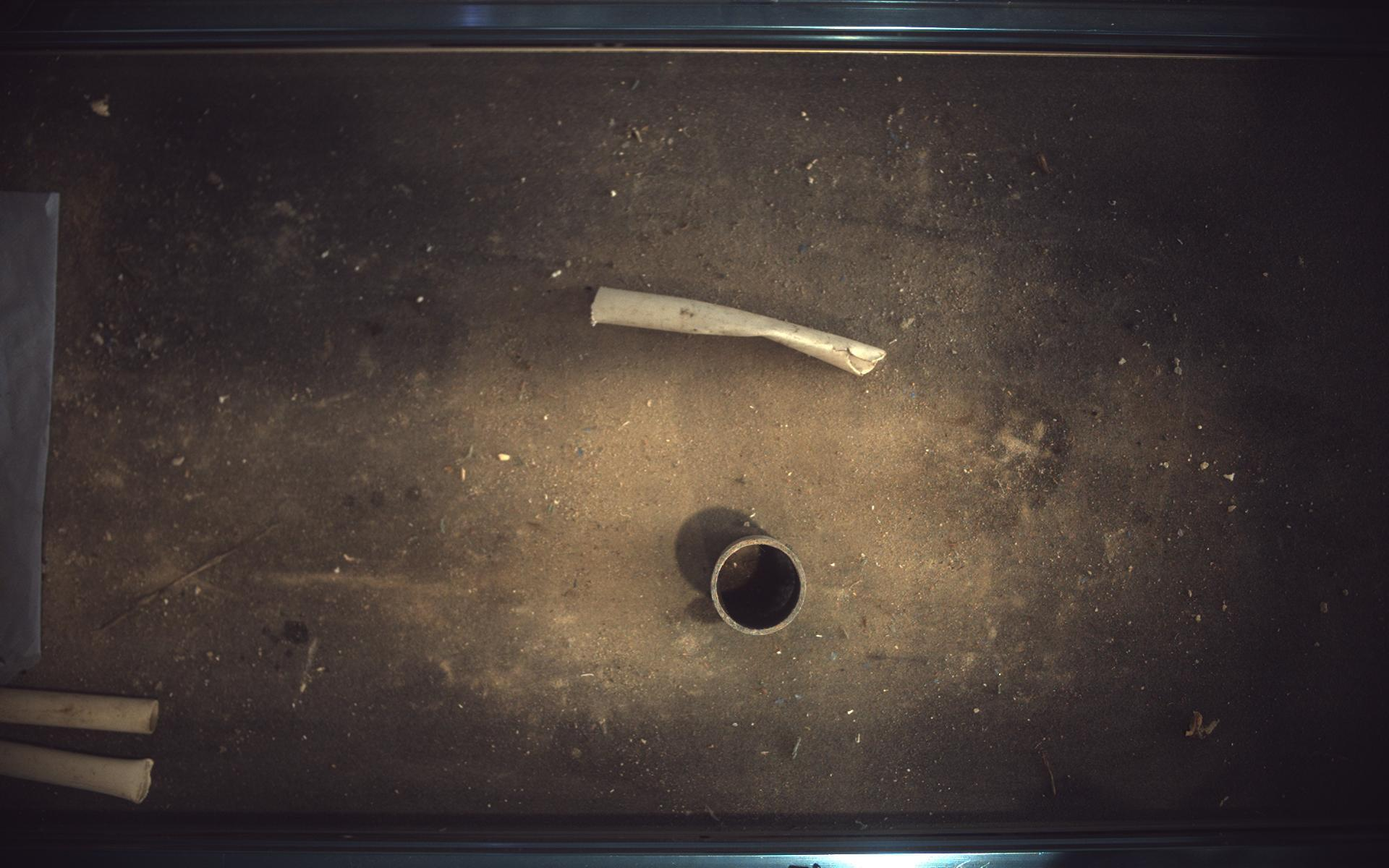pipes: (712, 536, 807, 636)
